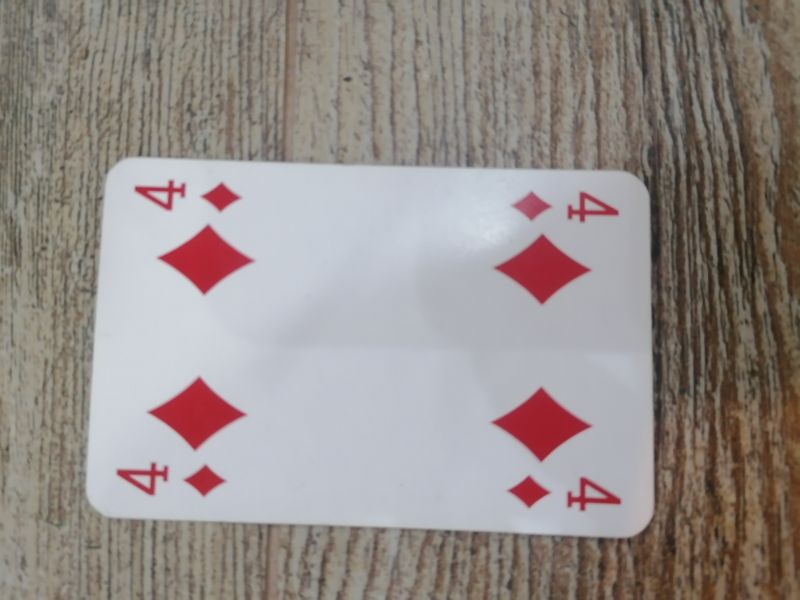4d: (507, 471, 628, 517), (112, 458, 231, 503), (132, 174, 247, 220), (509, 187, 625, 230)
